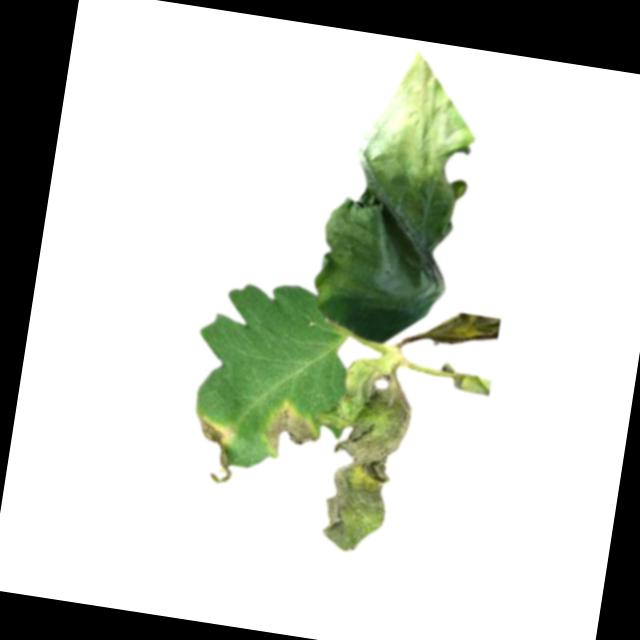Late_blight: (306, 40, 491, 355), (298, 354, 418, 556), (190, 414, 242, 487), (263, 397, 318, 459)
